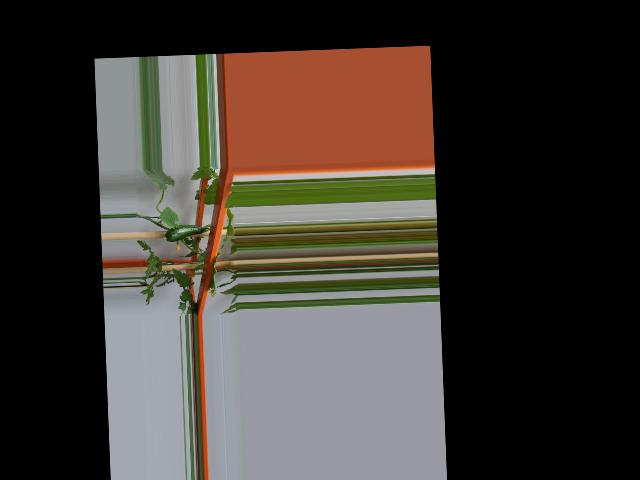cucumber: (161, 224, 204, 242)
